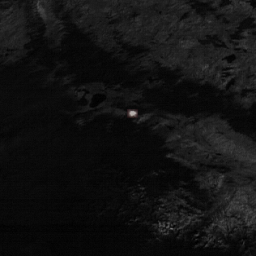Target: (127, 109, 139, 118)
